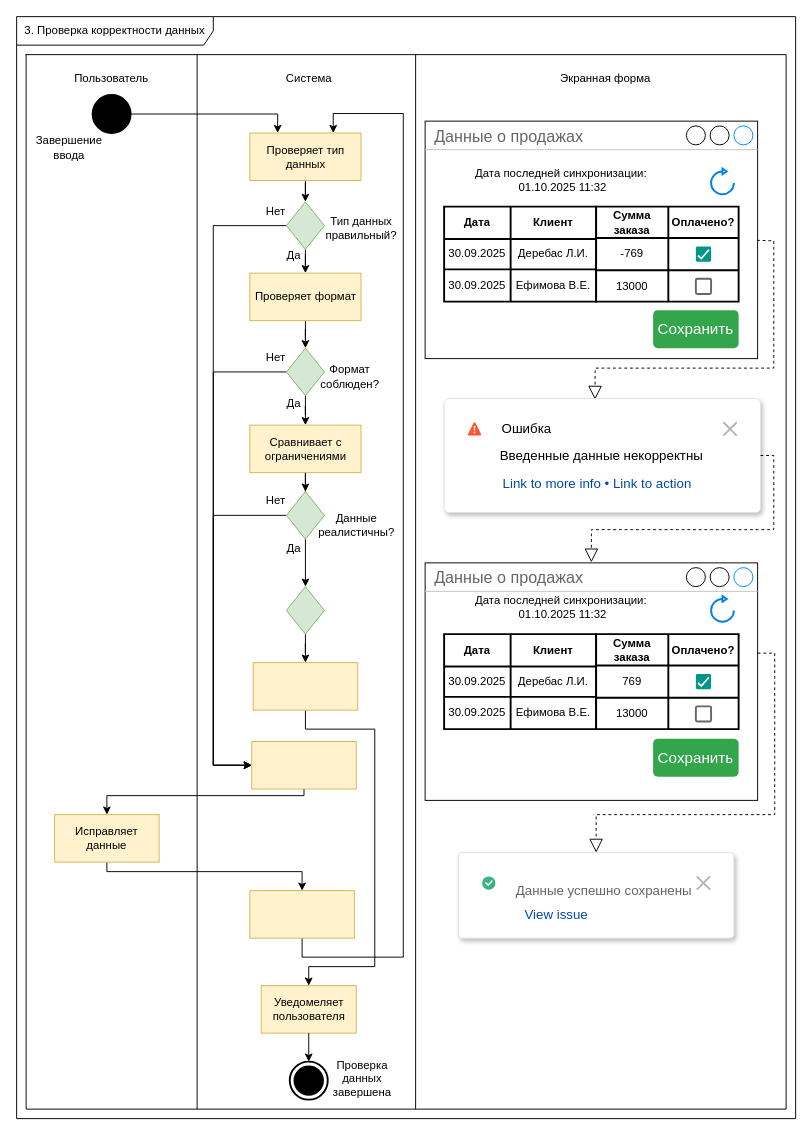
This 812x1135 diagram has some shape labels left out. The centre of each missing label's shape, as x and y in pixels:
"Вносит изменения" belongs at [301,914].
"Сохраняет данные" belongs at [305,686].
"Уведомляет о некорректности данных" belongs at [303,765].
